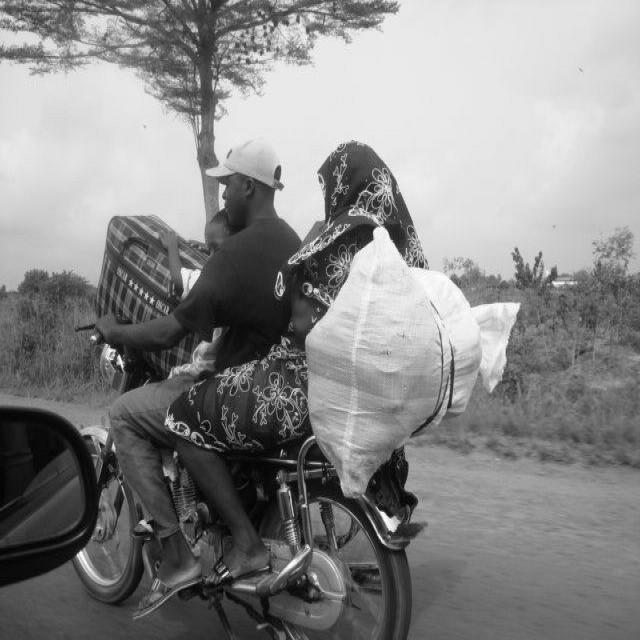Motorbike: (72, 140, 481, 640)
